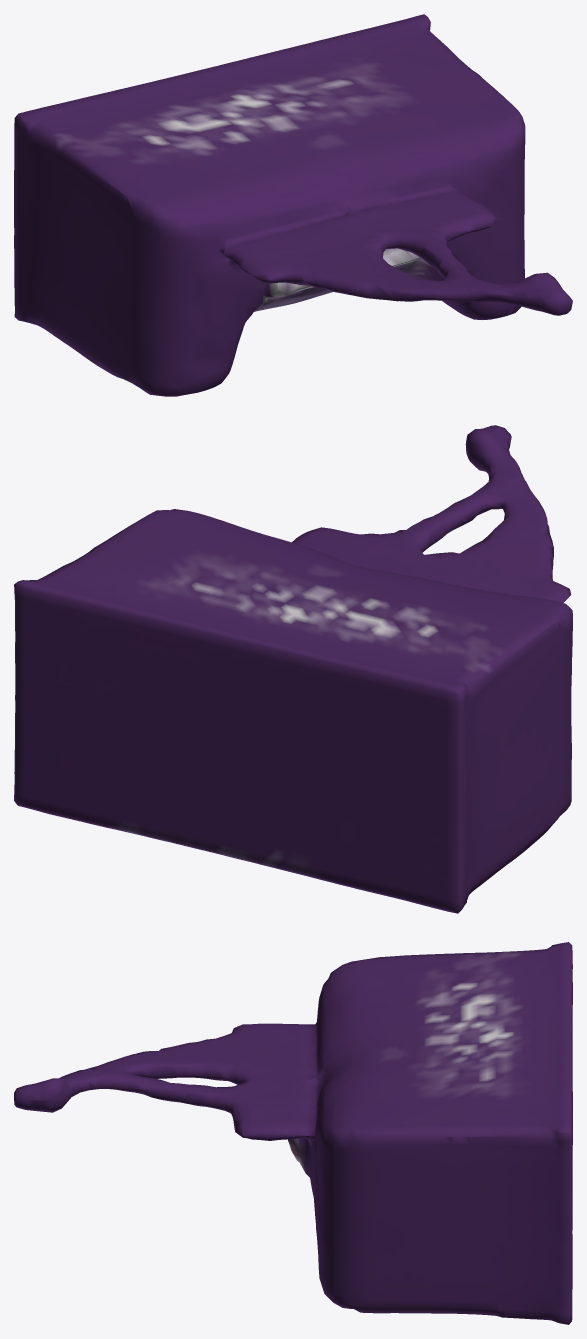
The model's file is a graspable bag.obj.
3 renders of one model, top to bottom at view 1: azimuth 30°, elevation 25°; view 2: azimuth 150°, elevation 25°; view 3: azimuth 270°, elevation 25°, orthographic. The views are drawn at different scales.
Bounding box in the file's own units: 0.8088 × 0.3877 × 0.9997.
